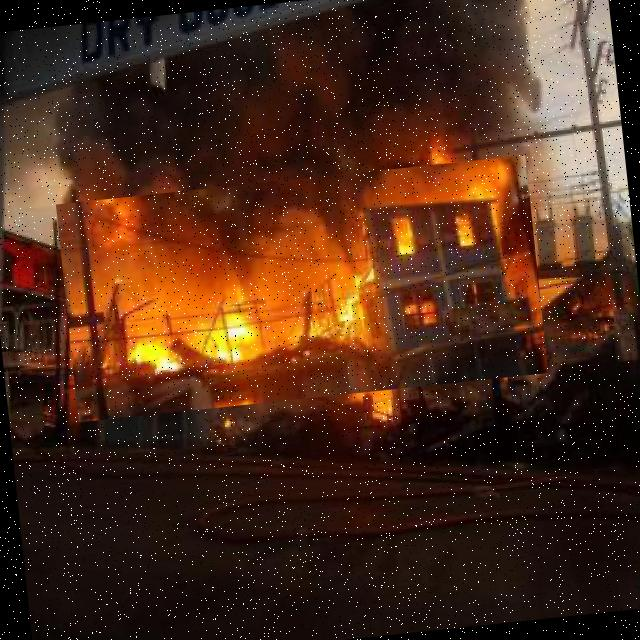fire: (55, 155, 548, 422)
